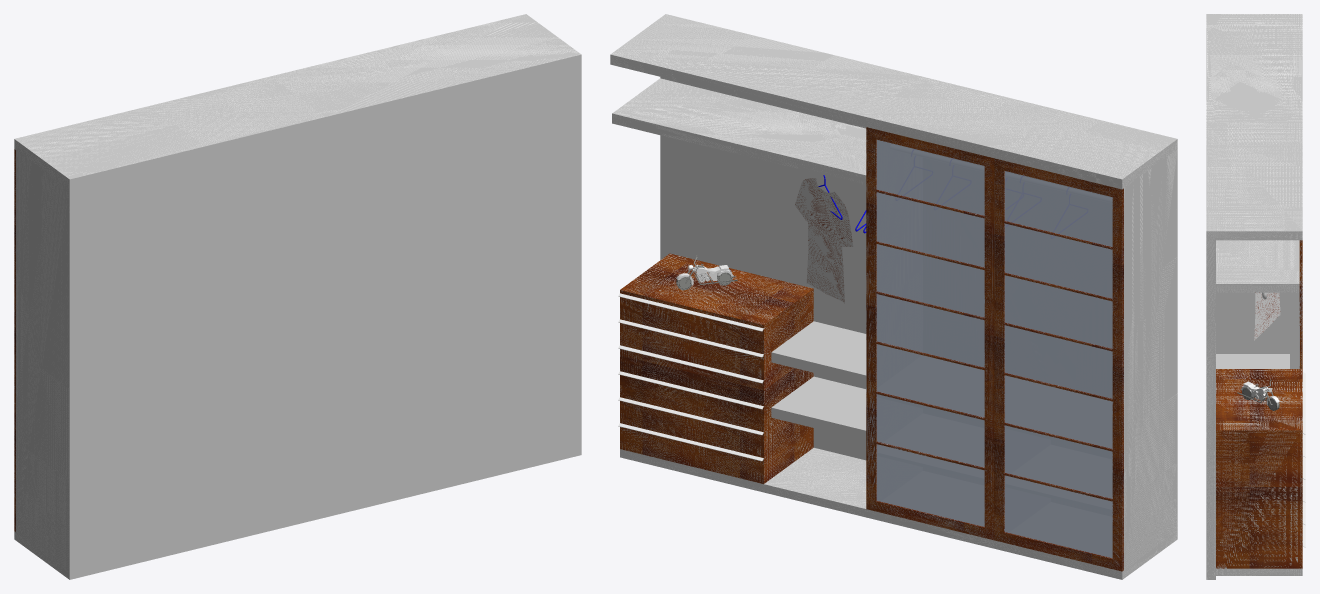
3 renders of one model, left to right at view 1: azimuth 30°, elevation 25°; view 2: azimuth 150°, elevation 25°; view 3: azimuth 270°, elevation 25°, orthographic. The views are drawn at different scales.
Parts seen in each view (by area): view 1: mesh126_mesh126-geometry, mesh14_mesh14-geometry; view 2: mesh126_mesh126-geometry, mesh14_mesh14-geometry, mesh1_mesh1-geometry, mesh57_mesh57-geometry; view 3: mesh126_mesh126-geometry, mesh57_mesh57-geometry, mesh1_mesh1-geometry, mesh105_mesh105-geometry.
Boxes of the visible parts, x1,y1,x2,y2 form: mesh126_mesh126-geometry: [14, 14, 581, 579]; mesh14_mesh14-geometry: [14, 149, 15, 531]; mesh126_mesh126-geometry: [610, 14, 1177, 579]; mesh14_mesh14-geometry: [994, 158, 1123, 571]; mesh1_mesh1-geometry: [866, 127, 994, 540]; mesh57_mesh57-geometry: [795, 178, 853, 303]; mesh126_mesh126-geometry: [1206, 14, 1302, 579]; mesh57_mesh57-geometry: [1254, 292, 1280, 340]; mesh1_mesh1-geometry: [1299, 240, 1302, 368]; mesh105_mesh105-geometry: [1242, 388, 1279, 410].
Size of the model in its own units: 0.7916 by 0.5917 by 0.1528.
